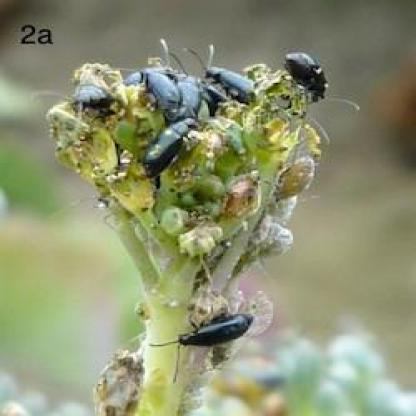beetle: (138, 113, 200, 175), (273, 49, 342, 100), (166, 314, 261, 349), (195, 60, 254, 102), (136, 66, 182, 116), (76, 80, 118, 119), (178, 71, 204, 116)
